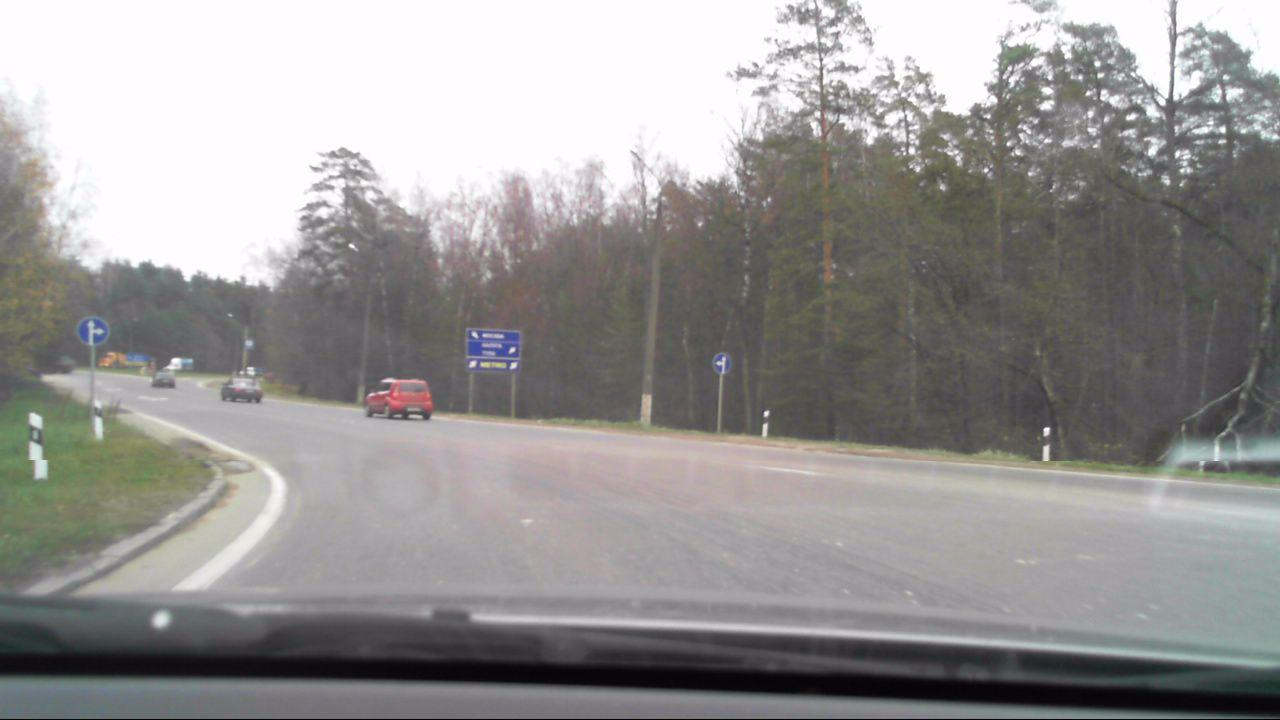4_1_4: (81, 315, 109, 344)
4_1_5: (706, 347, 737, 376)
6_10_1: (468, 326, 521, 373)
